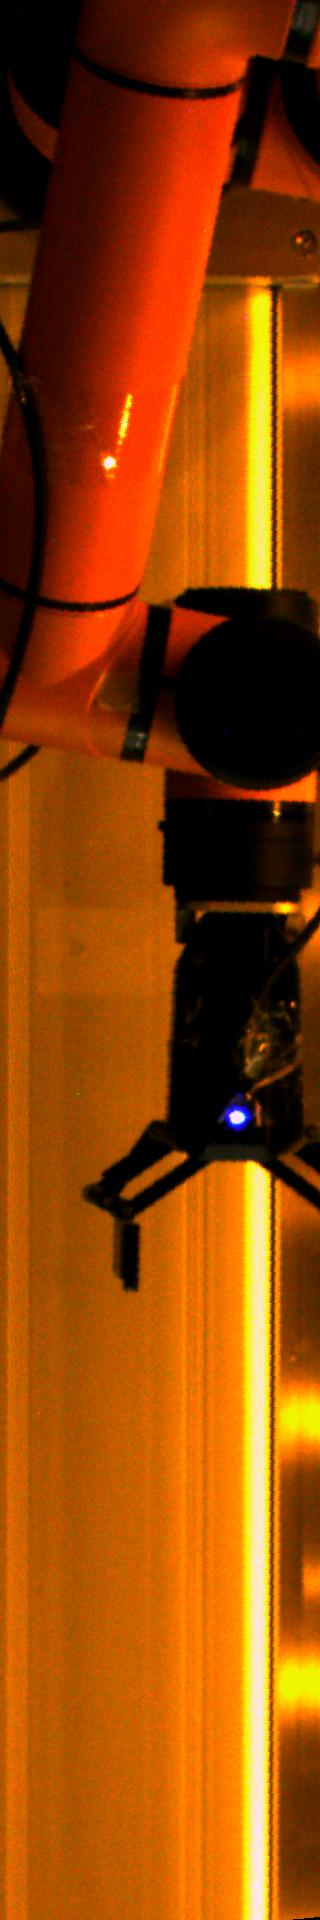keyPoint_1: (222, 1100, 253, 1130)
